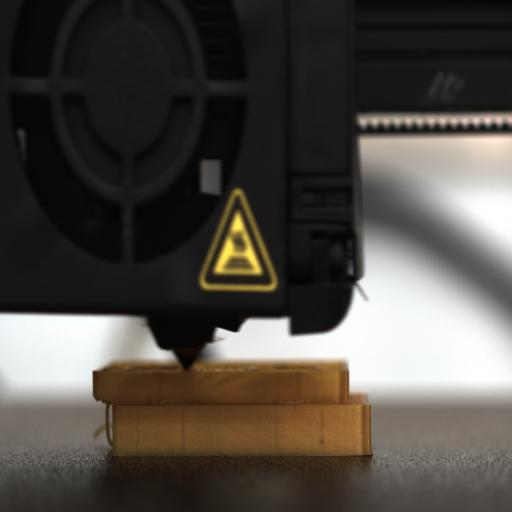layer_shift: (93, 388, 371, 414)
